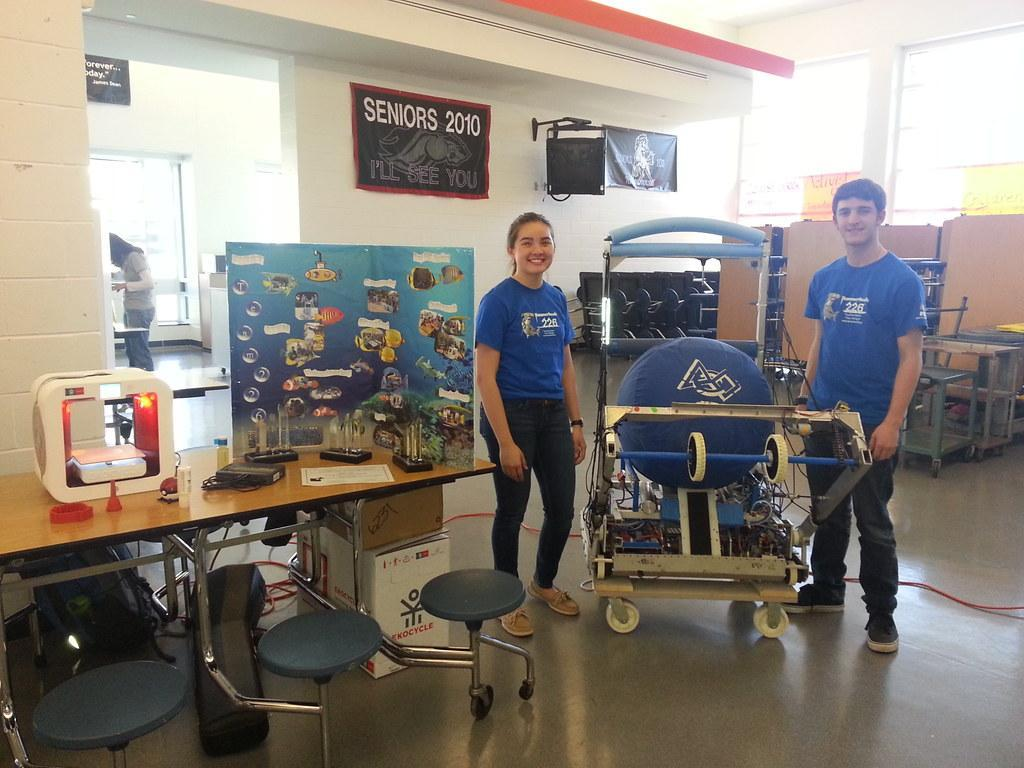robot: (574, 202, 877, 608)
